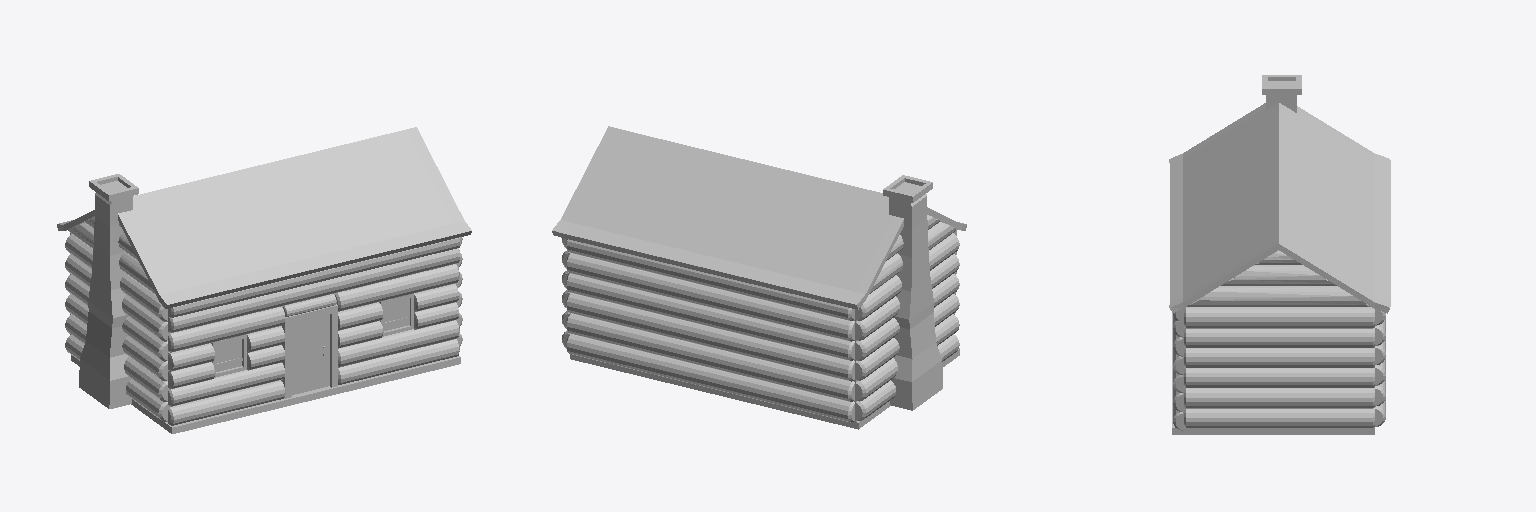
The model's file is lowPolyLogCabin.obj.
The picture shows the model from 3 angles: view 1: azimuth 30°, elevation 25°; view 2: azimuth 150°, elevation 25°; view 3: azimuth 270°, elevation 25°; orthographic projection.
Parts seen in each view (by area): view 1: Cube_Cube.001; view 2: Cube_Cube.001; view 3: Cube_Cube.001.
Part boxes in pixels (left/top/right/bottom): Cube_Cube.001: left=57, top=127, right=471, bottom=433; Cube_Cube.001: left=552, top=126, right=966, bottom=429; Cube_Cube.001: left=1169, top=75, right=1390, bottom=434.
Size of the model in its own units: 6.27 by 3.92 by 3.74.